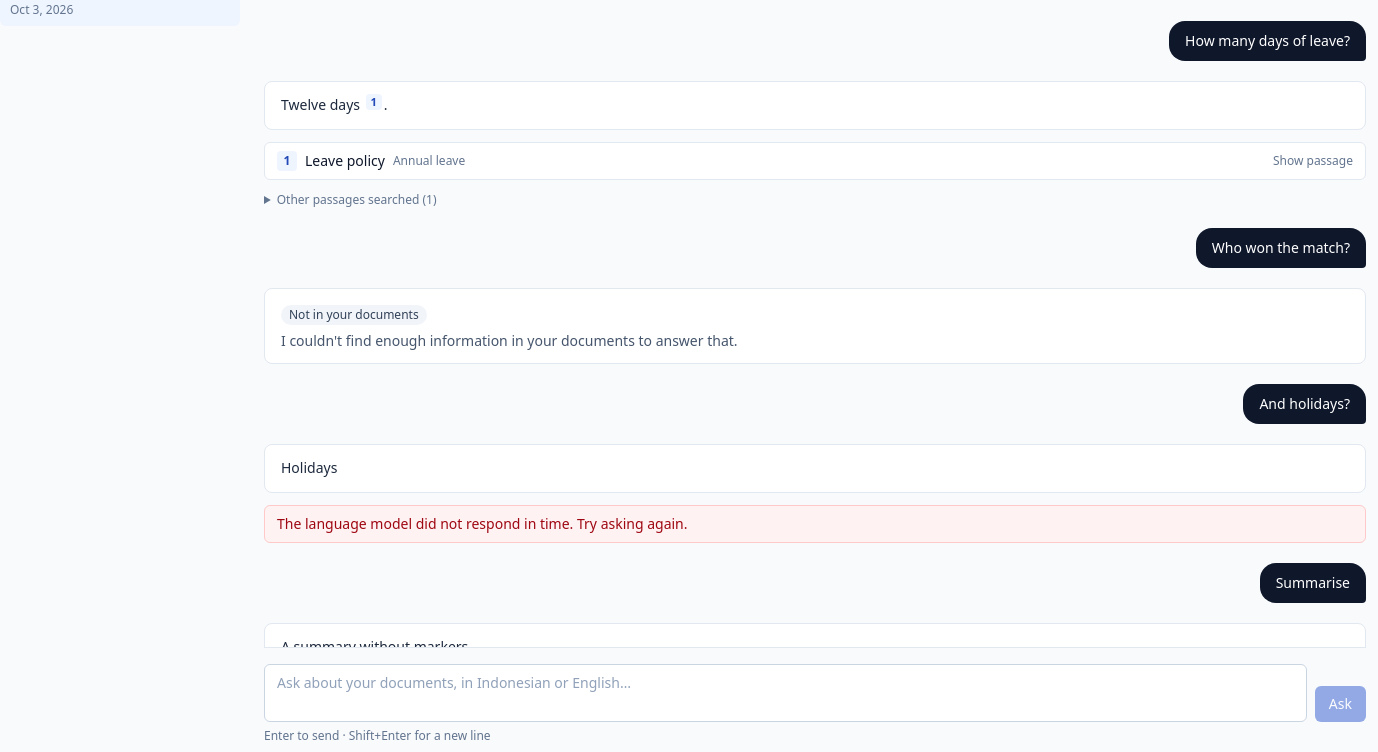
Test: stored conversation › opens the cited passage and links to the exact chunk
(page scrolled)
Click the button named "Show source 1". click: (374, 102)
box: [366,94,382,110]
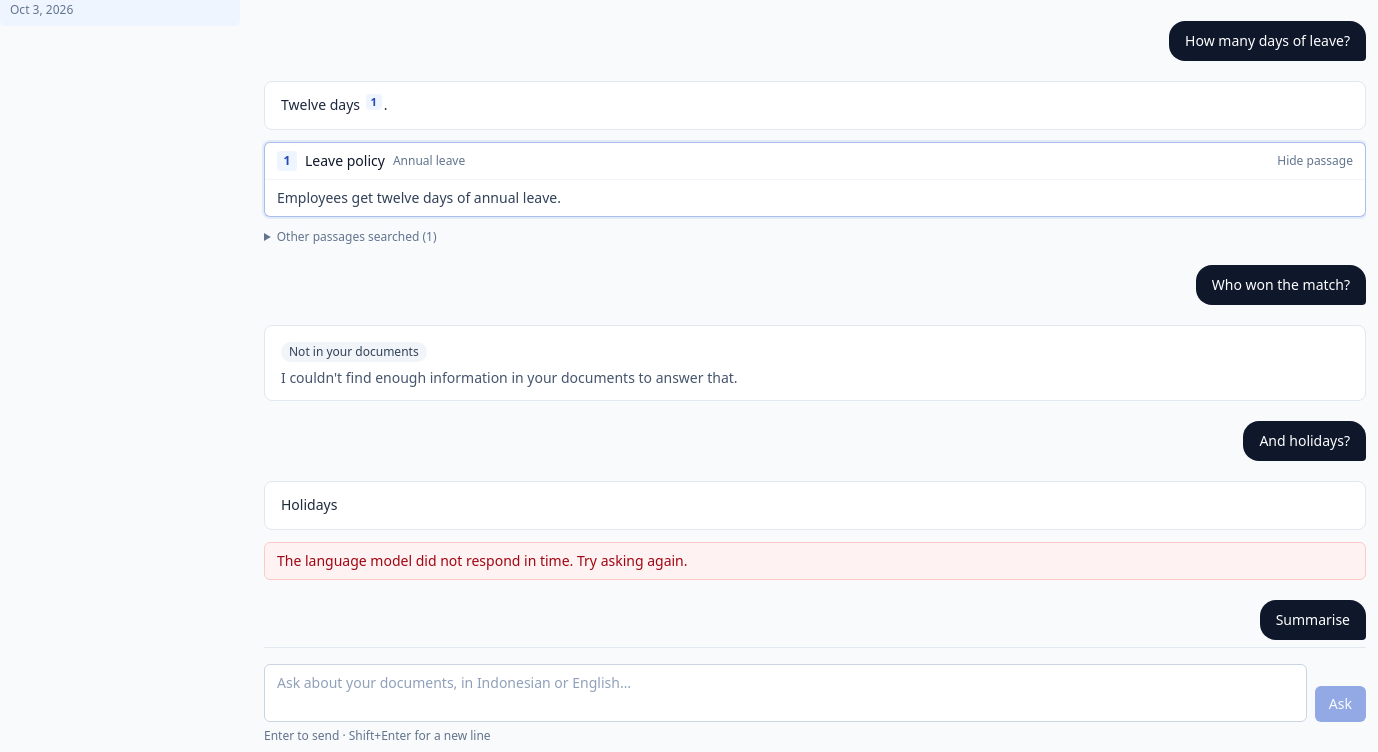
Expected: the text "Employees get twelve days of annual leave." is shown, [265,179,1365,216]
